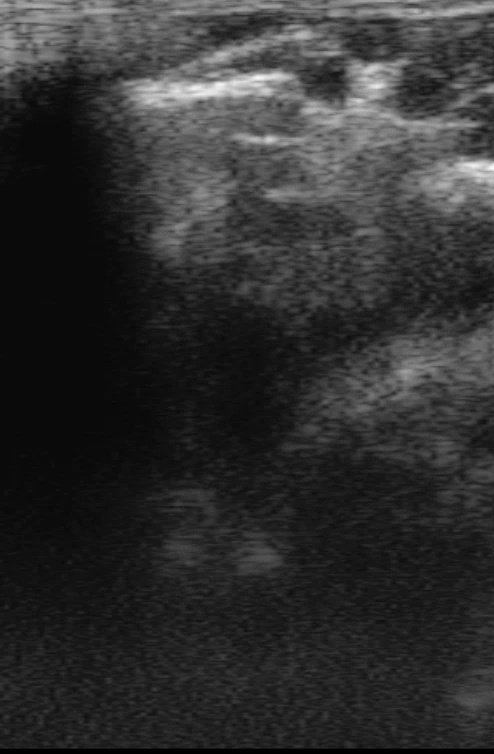veins_detect: (336, 13, 419, 73)
veins_seg: (343, 14, 407, 64)
